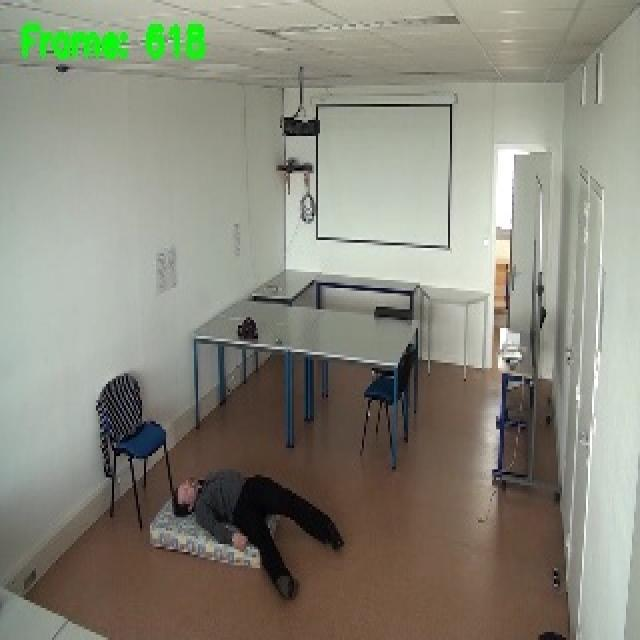fall: (167, 463, 349, 606)
